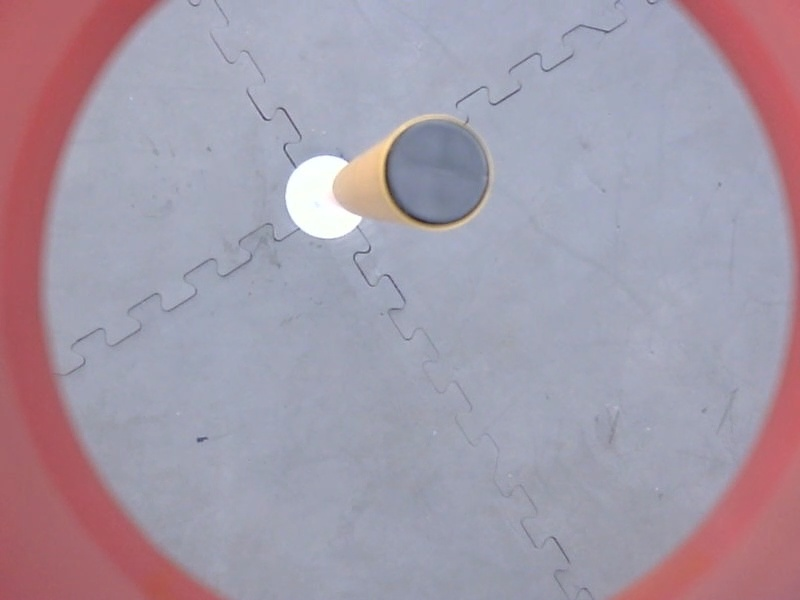tip: (376, 111, 502, 236)
